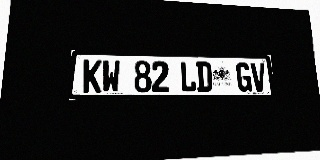2: (152, 61, 169, 92)
8: (134, 60, 151, 92)
D: (196, 62, 213, 92)
G: (235, 62, 252, 92)
K: (82, 59, 102, 93)
L: (180, 61, 197, 92)
V: (250, 63, 267, 92)
W: (102, 60, 120, 93)
